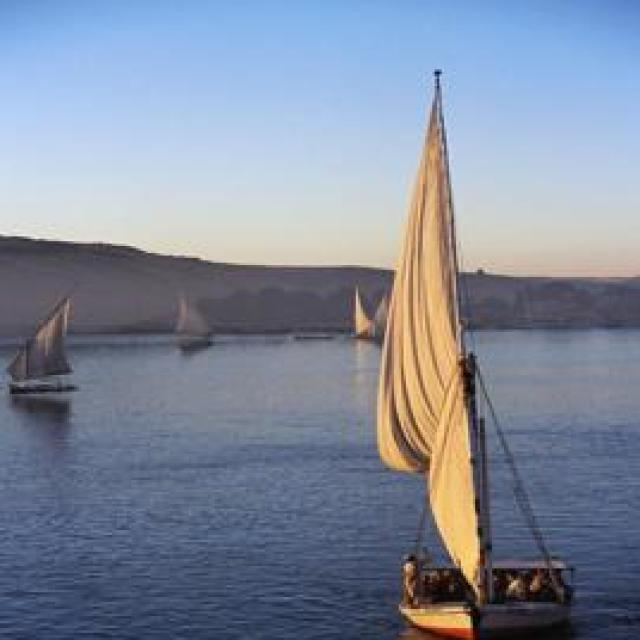sailboat: (375, 54, 571, 636), (0, 284, 76, 394), (167, 283, 212, 351), (343, 278, 378, 340)
